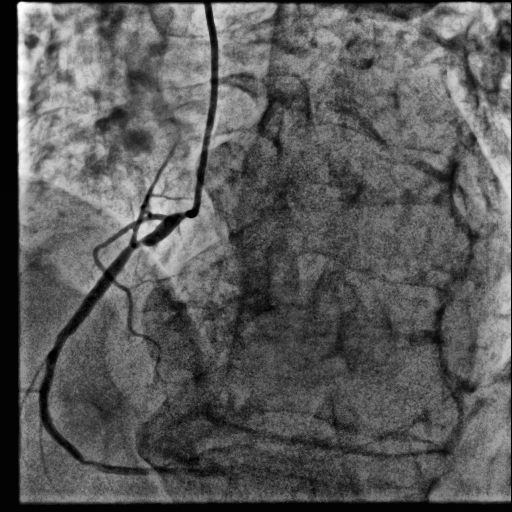pborca: (159, 446, 230, 468)
pda: (159, 469, 225, 478)
rca: (39, 210, 191, 475)
